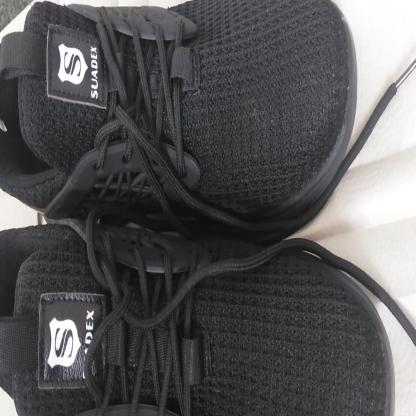safety-shoe: (0, 0, 397, 414)
